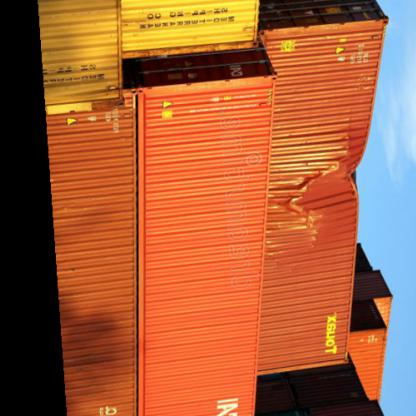Damage: (277, 158, 360, 242)
